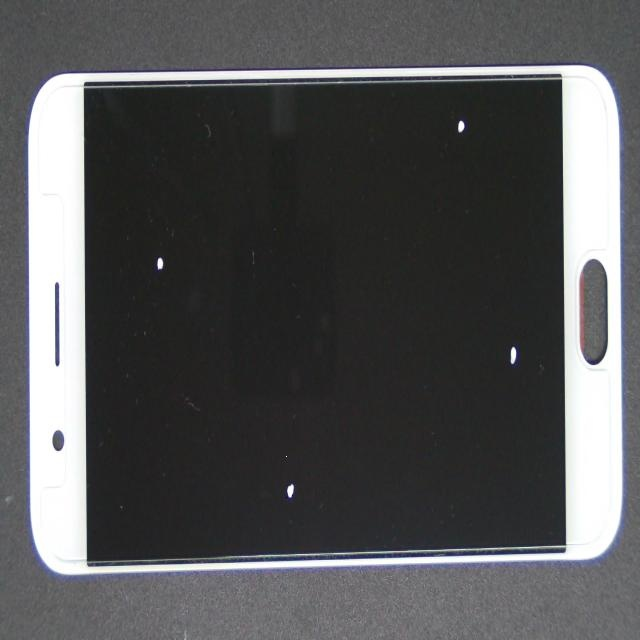stain: (247, 162, 640, 545), (131, 234, 420, 640), (212, 77, 640, 230), (71, 144, 214, 432)
